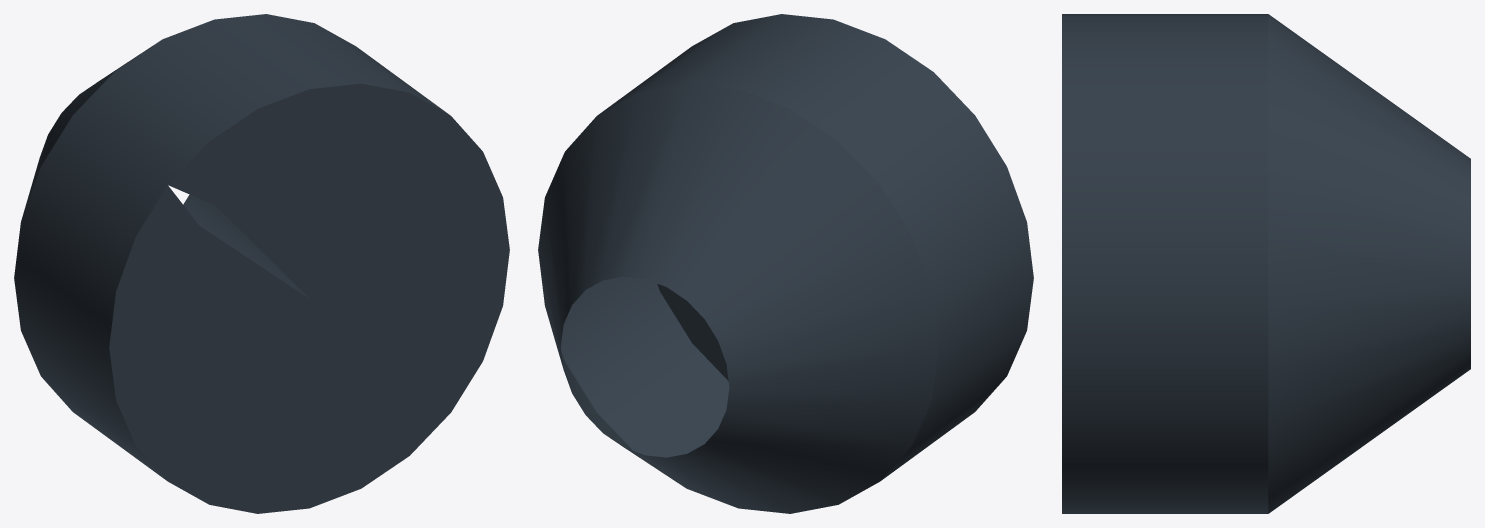
File: original-11.obj
The picture shows the model from 3 angles, left to right: view 1: azimuth 30°, elevation 25°; view 2: azimuth 150°, elevation 25°; view 3: azimuth 270°, elevation 25°; orthographic projection. The views are drawn at different scales.
Parts seen in each view (by area): view 1: #ID143; view 2: #ID143; view 3: #ID143.
Part boxes in pixels (box(x1,y1,x2,y2)): #ID143: box(14, 14, 509, 513); #ID143: box(538, 14, 1033, 513); #ID143: box(1062, 14, 1470, 513).
Size of the model in its own units: 0.105 by 0.105 by 0.0855.
